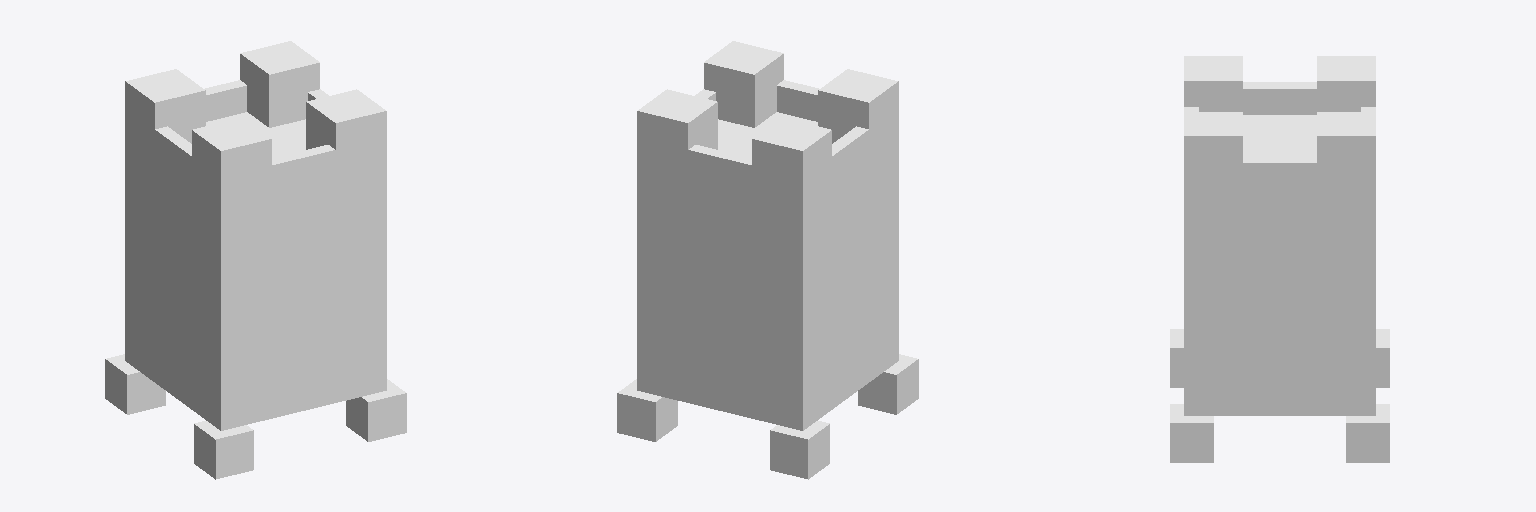
Rendered from torre.obj.
3 renders of one model, left to right at view 1: azimuth 30°, elevation 25°; view 2: azimuth 150°, elevation 25°; view 3: azimuth 270°, elevation 25°, orthographic.
Parts seen in each view (by area): view 1: torre; view 2: torre; view 3: torre.
Boxes of the visible parts, <box> form: torre: <box>105,41,406,479</box>; torre: <box>617,41,918,479</box>; torre: <box>1170,56,1389,462</box>.
Bounding box in the file's own units: 7.42 × 11.87 × 7.42.